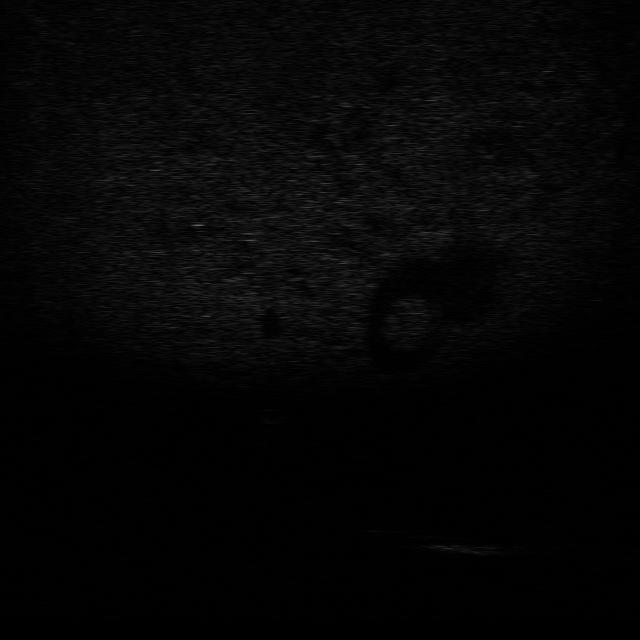ball: (255, 406, 287, 424)
metal bucket: (419, 534, 511, 560)
tyre: (366, 524, 460, 542)
